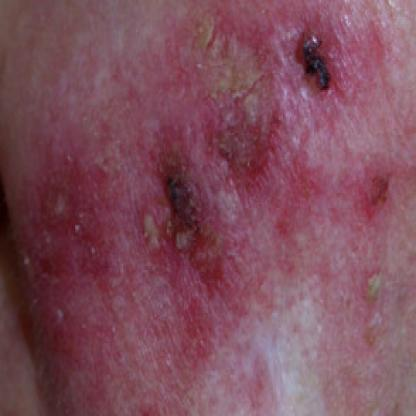Atopic Dermatitis: (296, 26, 342, 111), (156, 169, 204, 236)
